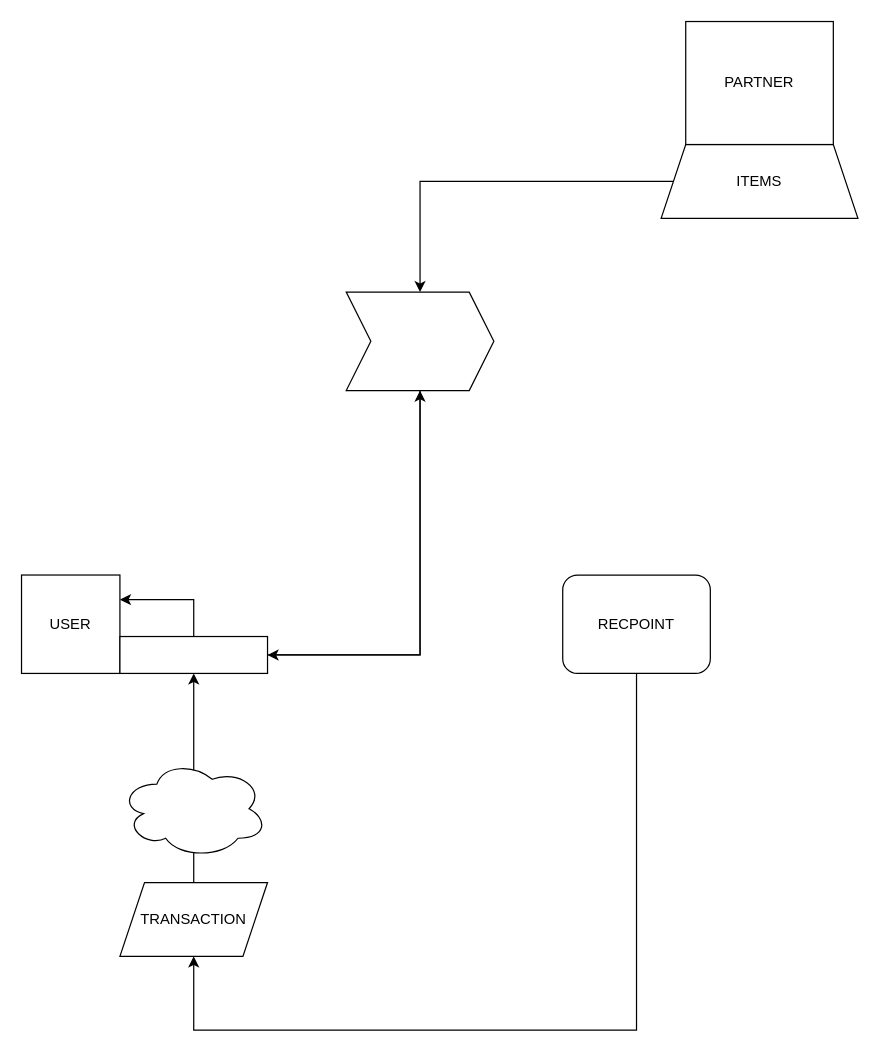
Some shapes in this 879 by 1061 pixel diagram are drawn without their labels. The centre of each missing label's shape, as x and y in pixels:
"MODERATION" belongs at (193,808).
"PARTNER ITEM" belongs at (419,341).
"WALLET" belongs at (193,654).
